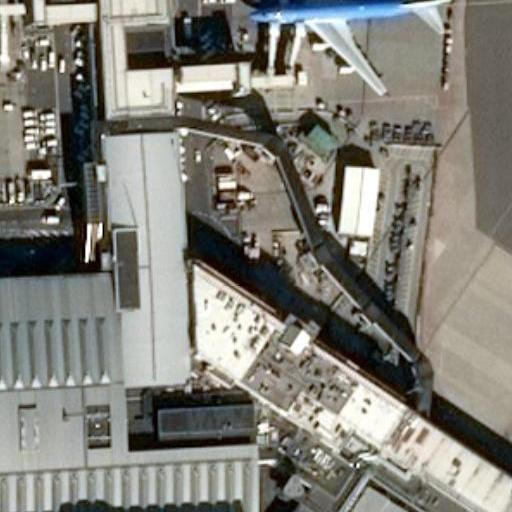Aircraft: (242, 0, 453, 94)
